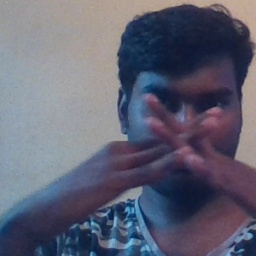W: (119, 78, 241, 219)
